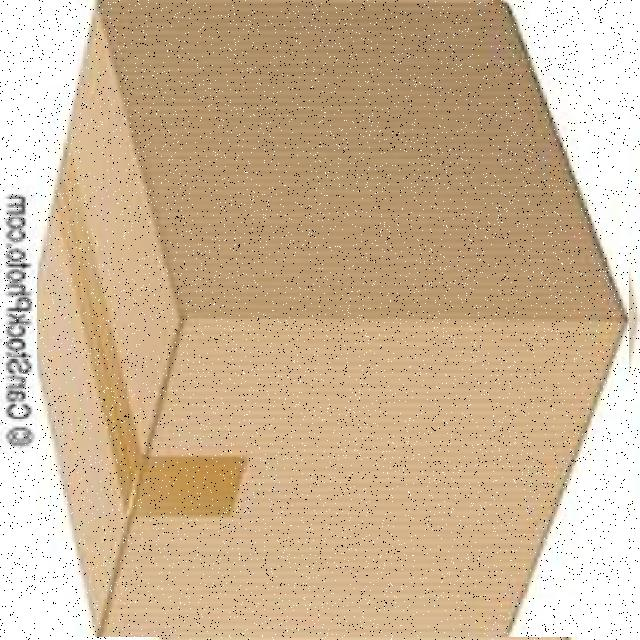normal: (37, 0, 629, 637)
